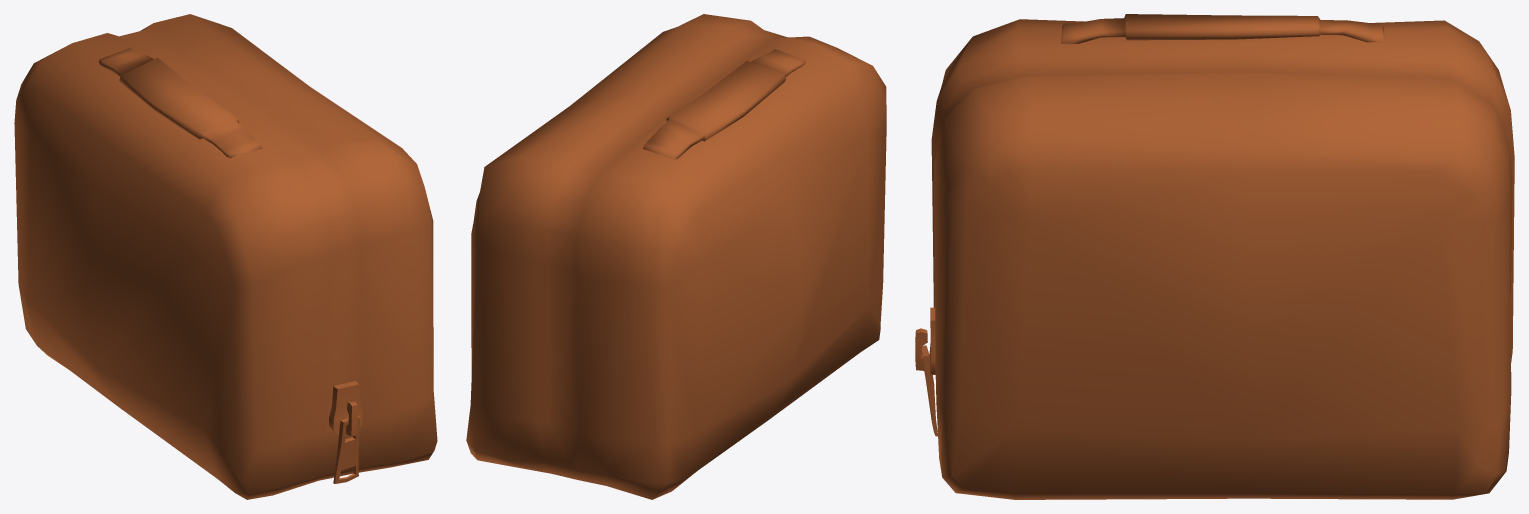
File: SM_FirstAidKit.fbx
3 renders of one model, left to right at view 1: azimuth 30°, elevation 25°; view 2: azimuth 150°, elevation 25°; view 3: azimuth 270°, elevation 25°, orthographic. The views are drawn at different scales.
Visible parts, largest first — view 1: SM_FirstAidKit; view 2: SM_FirstAidKit; view 3: SM_FirstAidKit.
Part boxes in pixels (x1=…): SM_FirstAidKit: x1=14, y1=14, x2=437, y2=499; SM_FirstAidKit: x1=466, y1=14, x2=886, y2=499; SM_FirstAidKit: x1=915, y1=14, x2=1514, y2=499.
Size of the model in its own units: 17.22 by 20.18 by 27.31.
